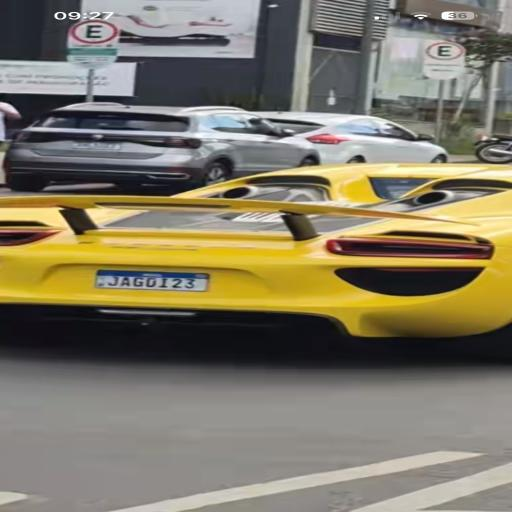detec-o-placas: (31, 233, 321, 330)
